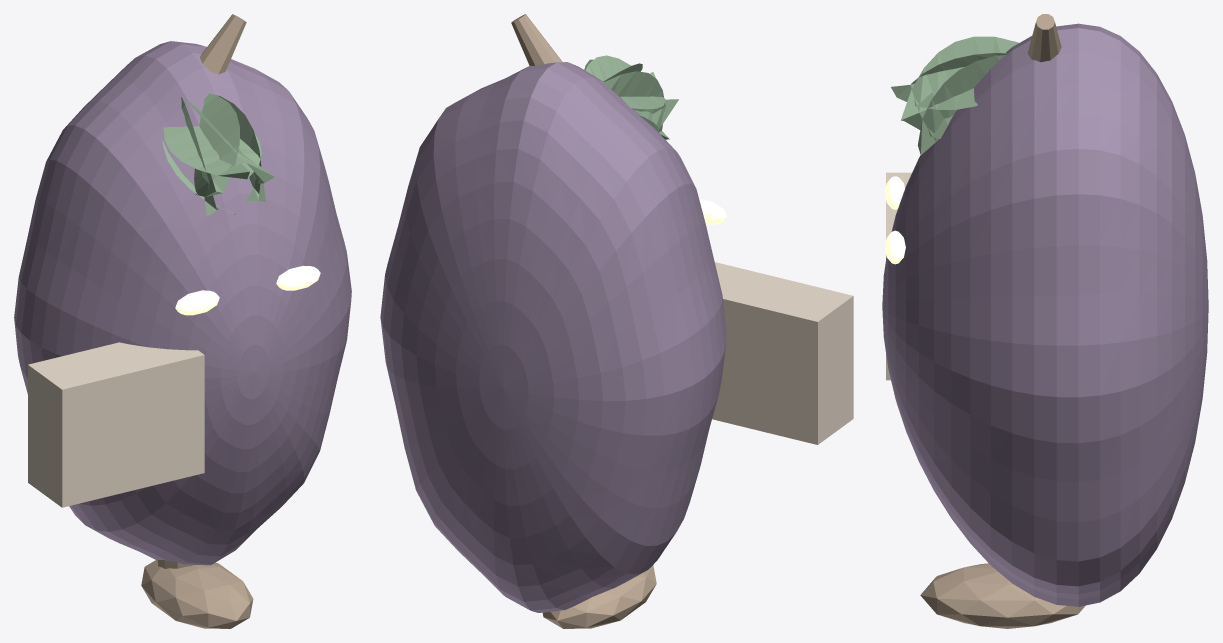
The model's file is resident_eggplant.glb.
3 views of the same model, side by side, from view 1: azimuth 30°, elevation 25°; view 2: azimuth 150°, elevation 25°; view 3: azimuth 270°, elevation 25° (orthographic). The views are drawn at different scales.
Parts seen in each view (by area): view 1: body, satchel, leg, calyx_4, calyx_3, stem, calyx_1, eye_L, eye_R, calyx_2, calyx_5; view 2: body, satchel, leg, calyx_5, stem, calyx_4; view 3: body, leg, calyx_2, calyx_1, stem, calyx_3, calyx_4, eye_R, satchel, eye_L.
Part boxes in pixels (<box>): body: <box>14,41,351,565</box>; satchel: <box>28,342,204,507</box>; leg: <box>141,560,253,628</box>; calyx_4: <box>194,93,239,196</box>; calyx_3: <box>163,126,261,179</box>; stem: <box>200,14,246,74</box>; calyx_1: <box>218,95,265,201</box>; eye_L: <box>175,290,219,315</box>; eye_R: <box>276,265,320,290</box>; calyx_2: <box>183,97,274,183</box>; calyx_5: <box>181,97,218,216</box>; body: <box>380,62,726,612</box>; satchel: <box>712,262,853,444</box>; leg: <box>542,565,656,628</box>; calyx_5: <box>603,71,669,139</box>; stem: <box>511,14,562,65</box>; calyx_4: <box>585,55,678,129</box>; body: <box>882,23,1208,606</box>; leg: <box>920,563,1085,628</box>; calyx_2: <box>901,36,1018,138</box>; calyx_1: <box>917,55,1005,155</box>; stem: <box>1027,14,1061,62</box>; calyx_3: <box>891,83,977,109</box>; calyx_4: <box>911,53,1007,84</box>; eye_R: <box>884,230,905,264</box>; satchel: <box>886,172,911,380</box>; eye_L: <box>884,176,904,209</box>.
Bounding box in the file's own units: 1.21 × 1.85 × 0.86.
